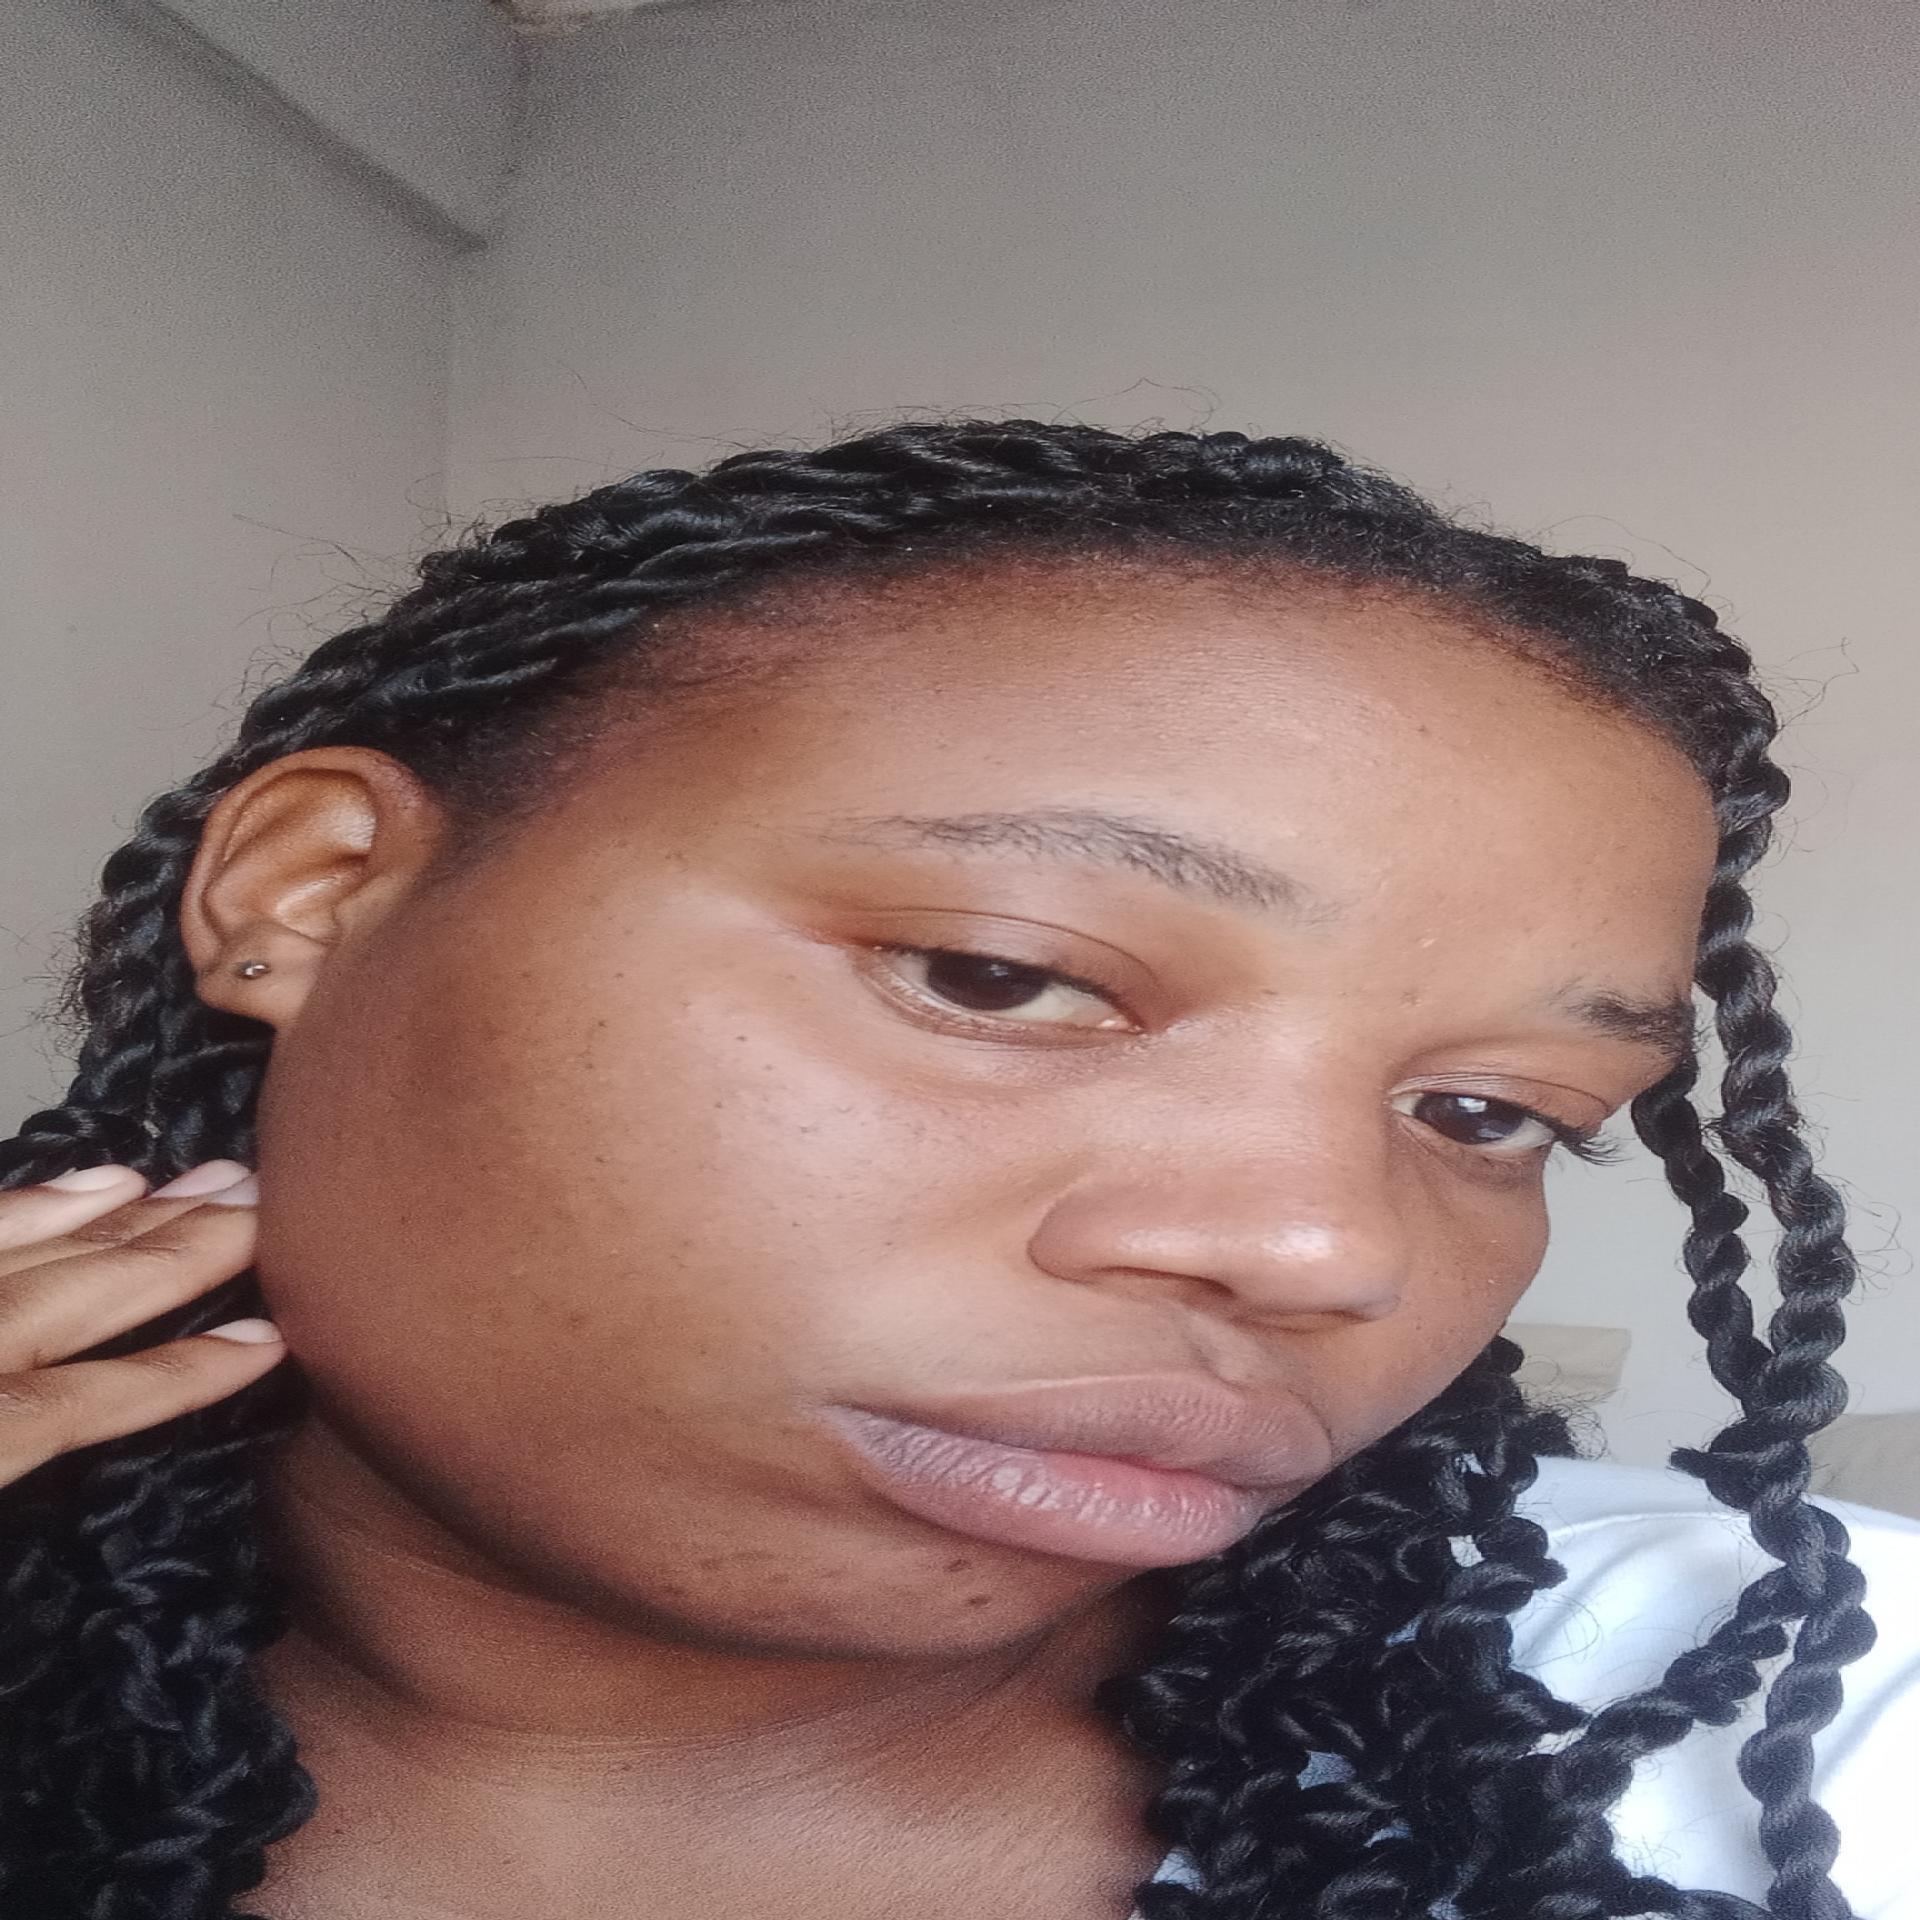Acne: (679, 1544, 791, 1572), (1268, 825, 1319, 847), (556, 1308, 594, 1336), (958, 1591, 999, 1611), (944, 1556, 981, 1577)
Dark Circles: (796, 1018, 1175, 1108)
